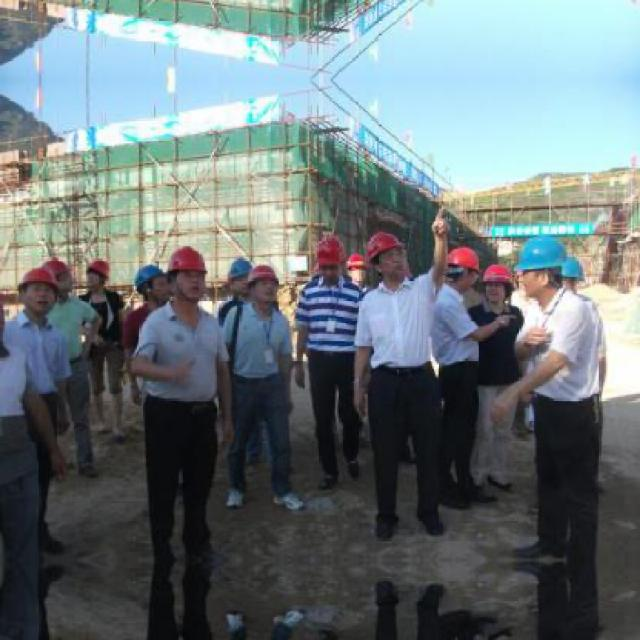helmet: (516, 238, 570, 298), (166, 240, 209, 298), (18, 260, 62, 315), (369, 229, 409, 285), (448, 238, 482, 290), (310, 235, 344, 280), (132, 262, 168, 303), (250, 262, 282, 306), (483, 263, 515, 306), (46, 254, 79, 295), (83, 256, 112, 296), (228, 255, 250, 297), (348, 249, 370, 288)
